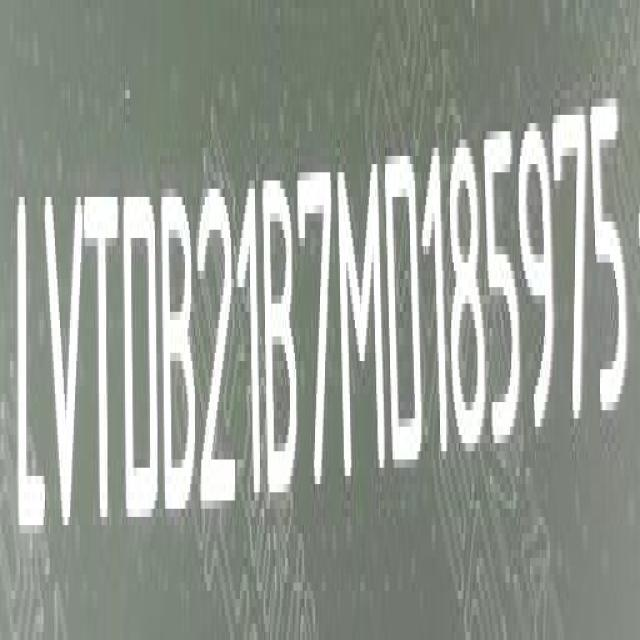1: (422, 134, 449, 471), (238, 180, 260, 510)
2: (196, 180, 239, 510)
5: (481, 109, 522, 459), (591, 98, 628, 428)
7: (552, 104, 590, 432), (297, 161, 332, 492)
8: (448, 134, 484, 465)
9: (518, 94, 556, 444)
B: (160, 188, 198, 523), (262, 164, 297, 486)
D: (383, 140, 425, 480), (121, 188, 158, 516)
L: (14, 170, 46, 547)
M: (338, 155, 385, 489)
T: (83, 176, 117, 532)
V: (44, 179, 83, 547)
